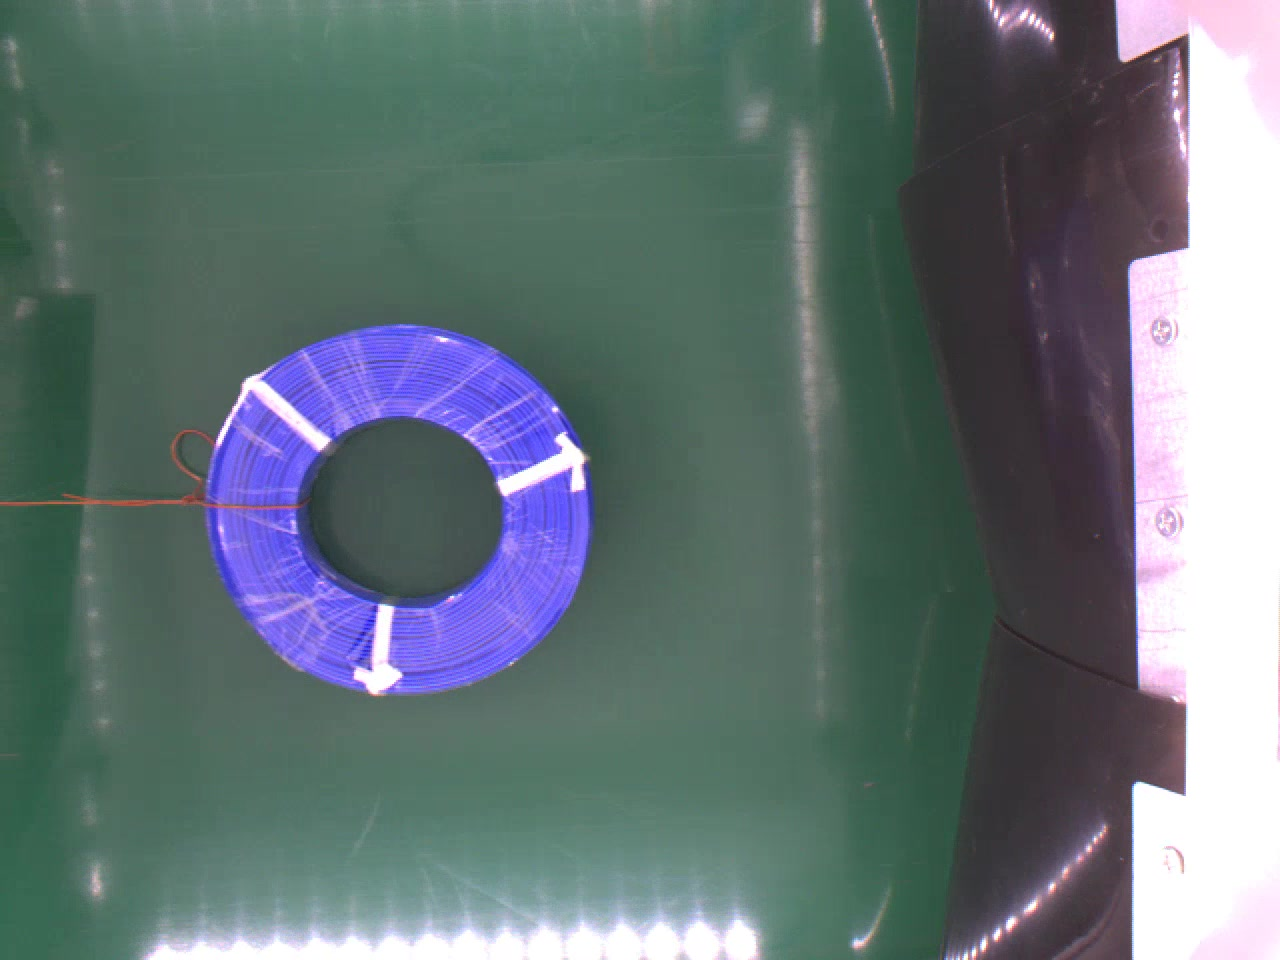blue: (201, 323, 593, 695)
